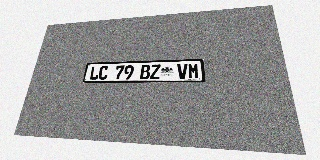plate: (83, 59, 205, 83)
